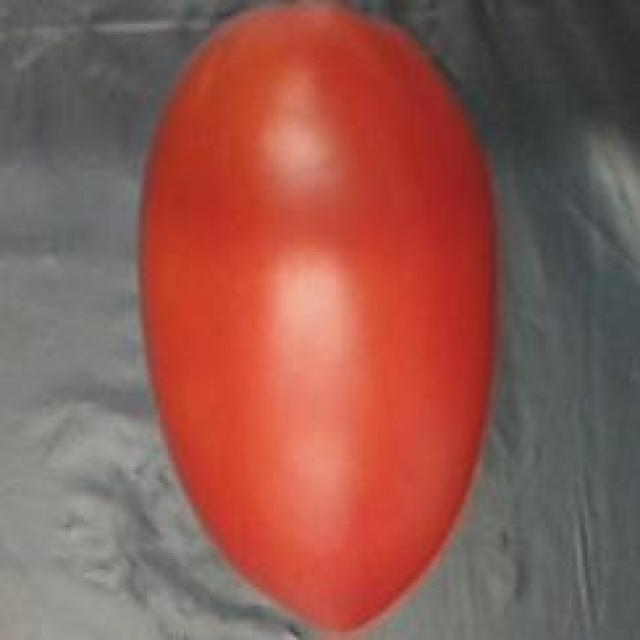ripe tomato: (128, 0, 512, 640)
